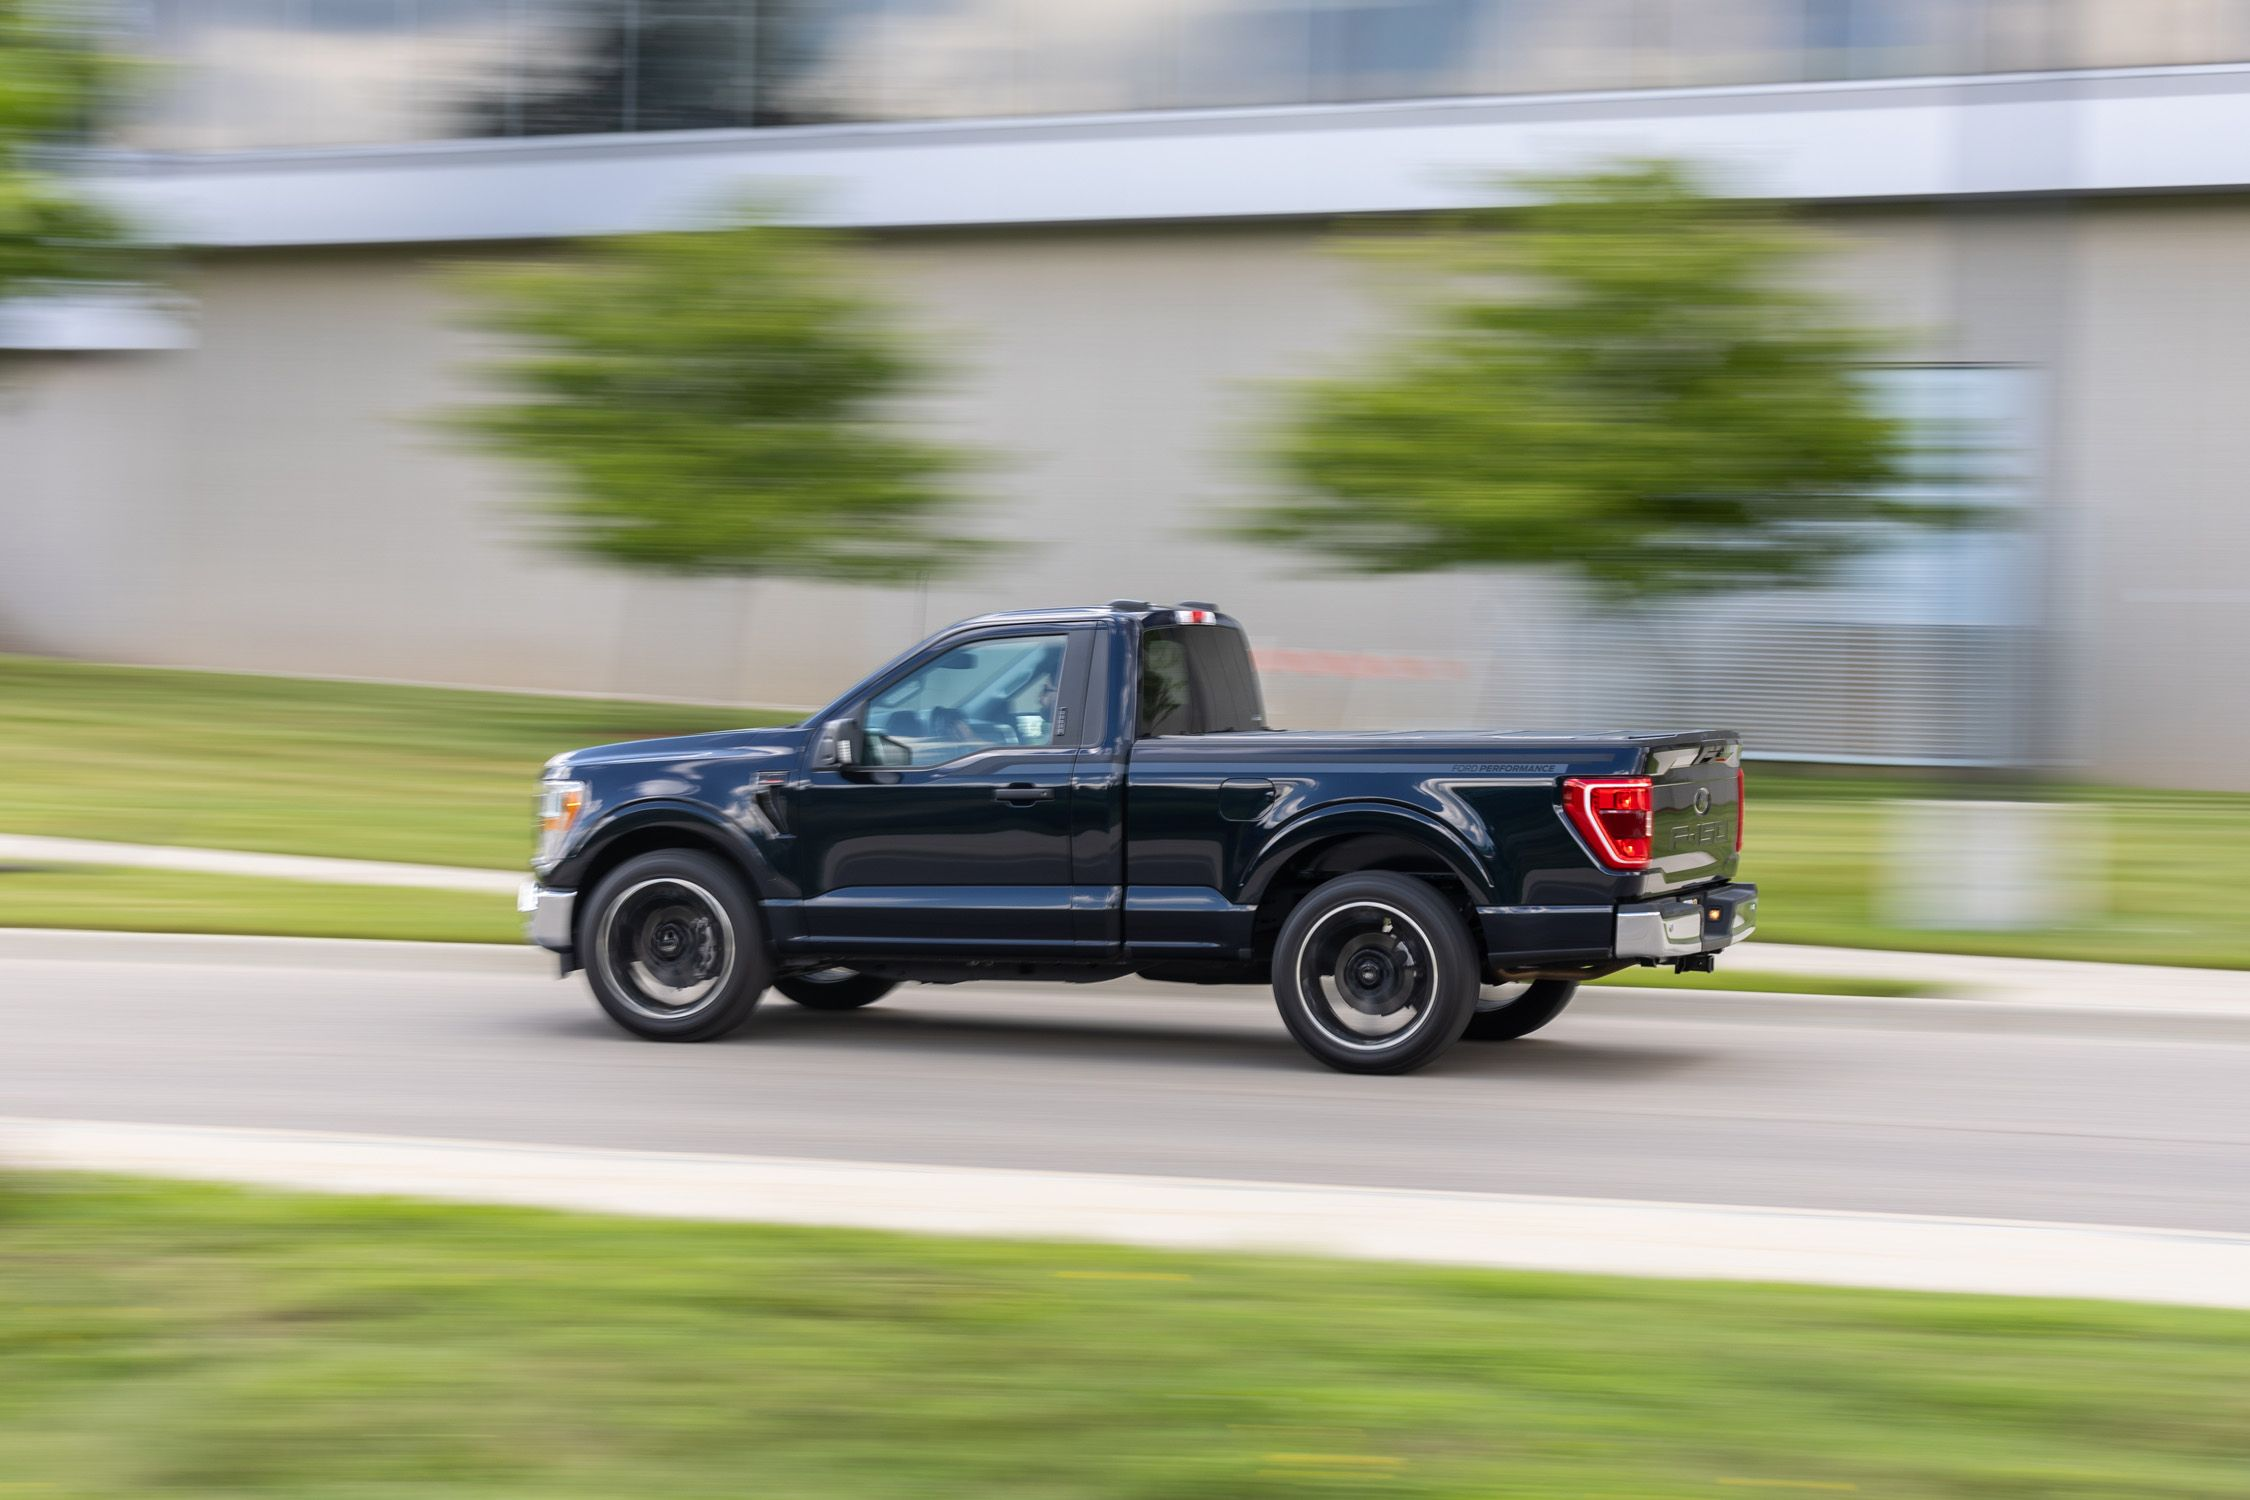car: (511, 591, 1770, 1076)
